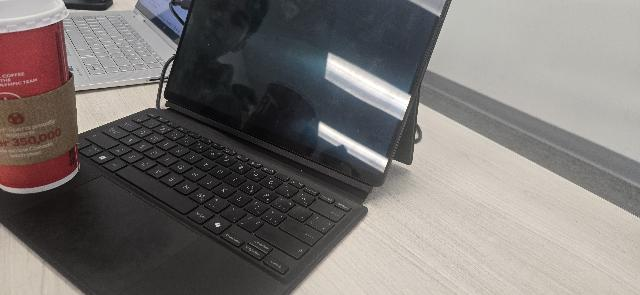Keyboard: (78, 113, 366, 275)
